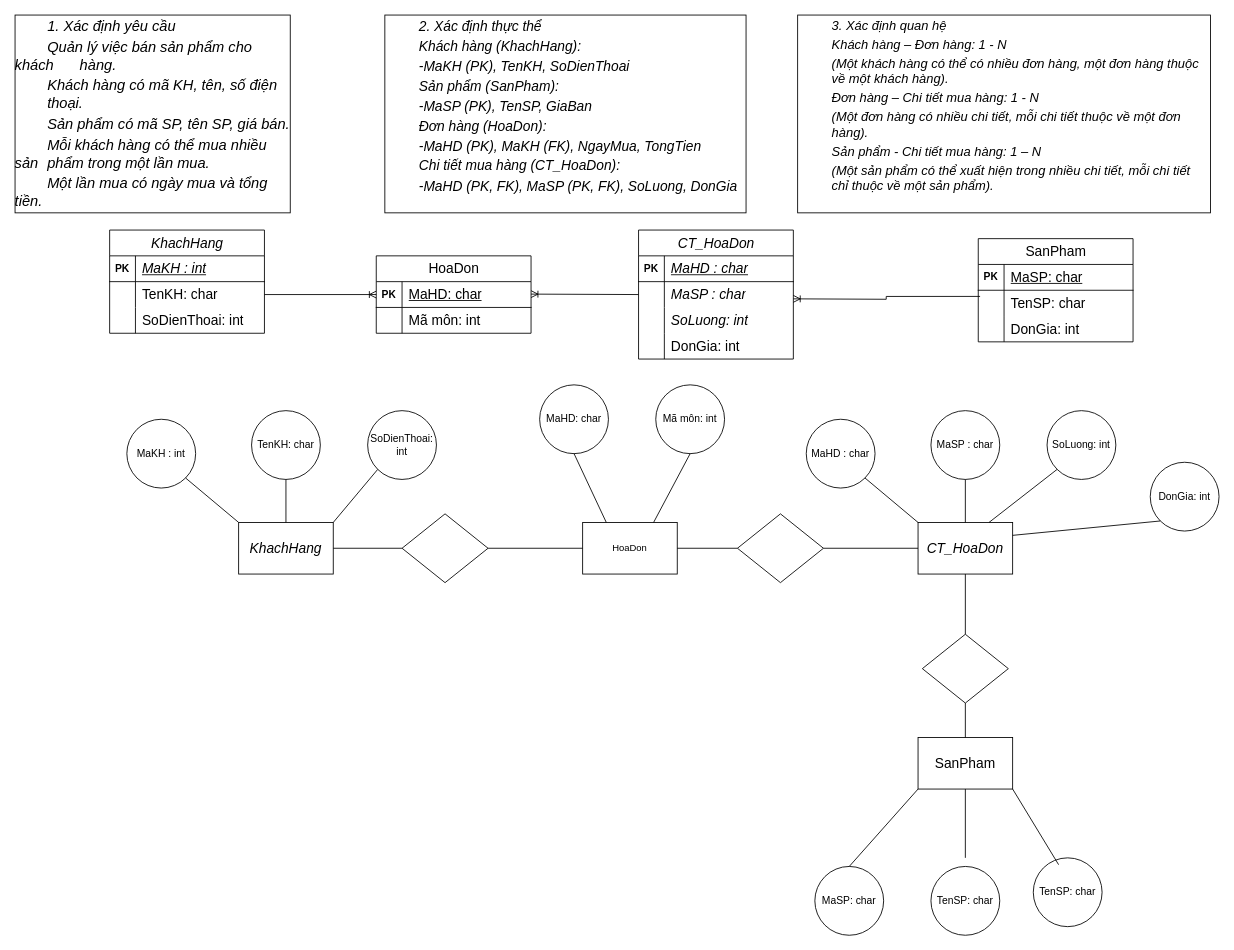
Image size: 1234x950. Some labels were removed from this diagram. Here are the shapes that lost their labels. From the top down, the box of each, then its label:
(401, 513, 488, 583): Đặt hàng
(737, 513, 823, 583): Có
(921, 633, 1008, 703): thuộc về
